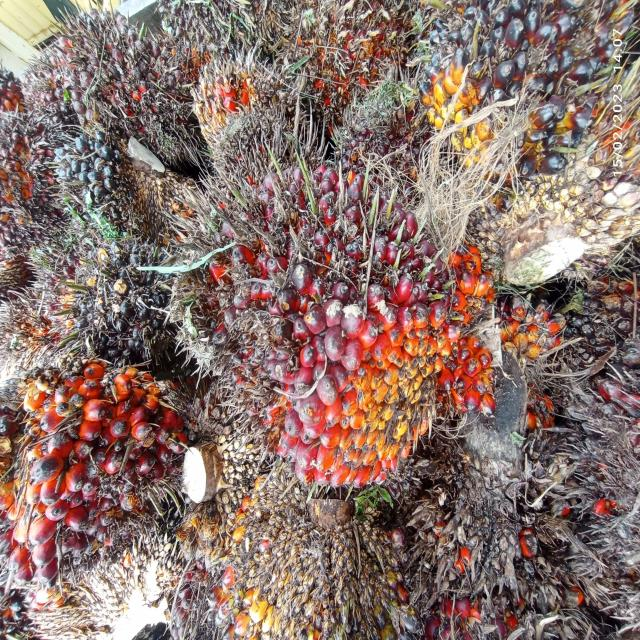fraksi 00: (416, 0, 640, 274), (32, 0, 179, 178), (60, 238, 191, 368), (46, 107, 136, 233)
fraksi 3: (199, 127, 497, 524), (0, 307, 211, 626)
